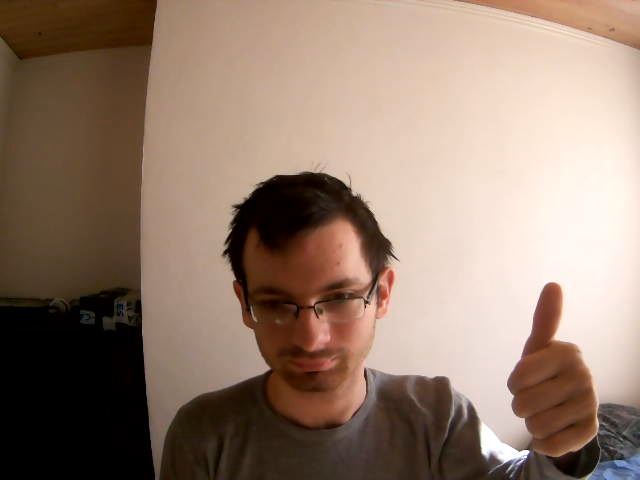nice: (501, 274, 608, 458)
